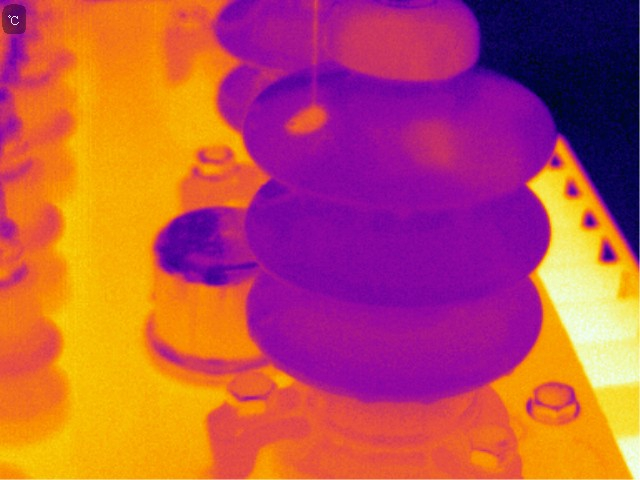Oil: (317, 1, 484, 81), (400, 115, 464, 169), (283, 98, 333, 142), (259, 188, 296, 207), (356, 393, 381, 404), (415, 396, 438, 406), (502, 367, 520, 376)
